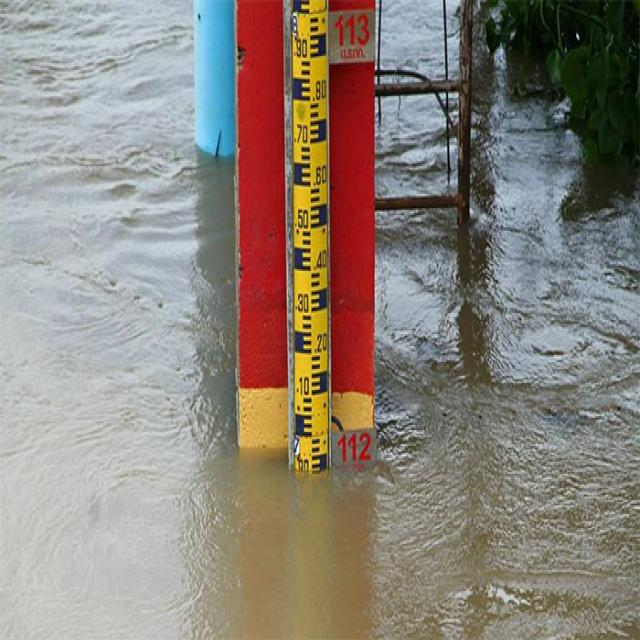ruler: (285, 0, 332, 486)
value: (292, 204, 312, 236), (310, 245, 330, 274), (311, 160, 328, 193), (294, 286, 312, 316), (292, 119, 310, 147), (313, 327, 329, 358), (310, 76, 327, 105), (295, 371, 313, 398), (293, 36, 309, 60), (293, 434, 300, 455), (292, 14, 298, 36)
